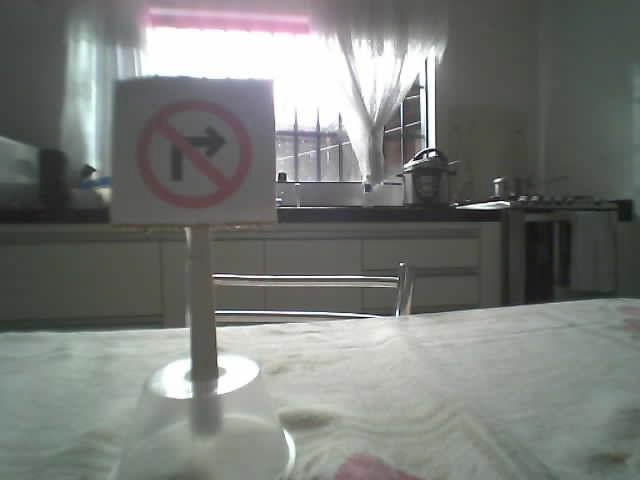R-4b_proibido-direita: (137, 101, 250, 207)
